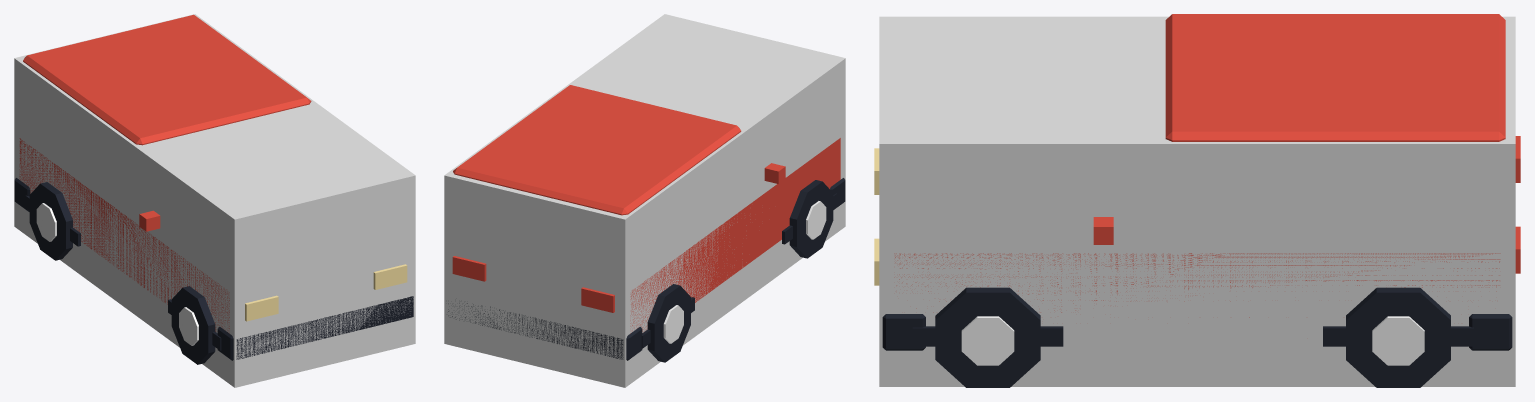
Rendered from hatchback.glb.
3 views of the same model, side by side, from view 1: azimuth 30°, elevation 25°; view 2: azimuth 150°, elevation 25°; view 3: azimuth 270°, elevation 25° (orthographic). The views are drawn at different scales.
Parts seen in each view (by area): view 1: COL_body, hatchback, wheel_FL, wheel_RL; view 2: COL_body, hatchback, wheel_FL, wheel_RL; view 3: COL_body, hatchback, wheel_FR, wheel_RR.
Boxes of the visible parts, bbox=[...] form: COL_body: bbox=[14, 14, 415, 387]; hatchback: bbox=[14, 14, 413, 360]; wheel_FL: bbox=[171, 286, 215, 364]; wheel_RL: bbox=[29, 182, 72, 260]; COL_body: bbox=[444, 14, 845, 387]; hatchback: bbox=[448, 85, 845, 360]; wheel_FL: bbox=[789, 180, 833, 258]; wheel_RL: bbox=[647, 284, 690, 362]; COL_body: bbox=[879, 16, 1515, 386]; hatchback: bbox=[874, 14, 1520, 350]; wheel_FR: bbox=[935, 287, 1040, 387]; wheel_RR: bbox=[1346, 287, 1450, 387].
Bounding box in the file's own units: 2.08 × 1.65 × 3.86.
